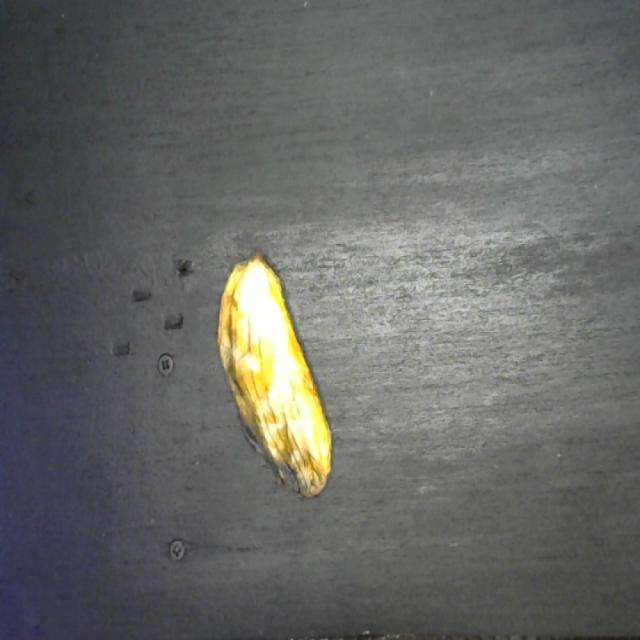biodegradable: (214, 249, 338, 505)
